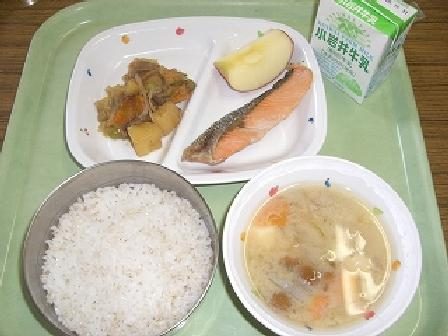Apple: (210, 25, 300, 94)
Fish: (186, 84, 312, 170)
Milk: (305, 0, 422, 99)
Rice: (16, 166, 207, 332)
Soups: (230, 165, 413, 335)
vegetable based cooked food: (81, 59, 197, 154)
